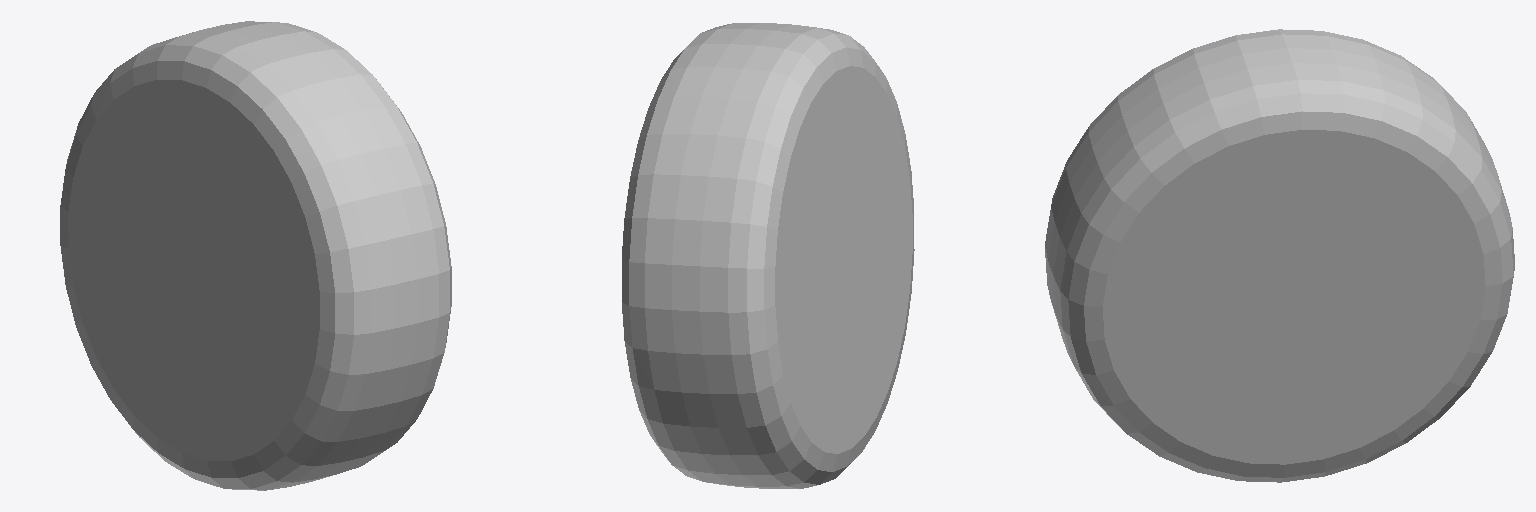
File: trackpad_scroll_wheel.obj
The picture shows the model from 3 angles: view 1: azimuth 30°, elevation 25°; view 2: azimuth 150°, elevation 25°; view 3: azimuth 270°, elevation 25°; orthographic projection.
Visible parts, largest first — view 1: r_trackpad_scroll_wheel; view 2: r_trackpad_scroll_wheel; view 3: r_trackpad_scroll_wheel.
Boxes of the visible parts, <box> form: r_trackpad_scroll_wheel: <box>60,21,451,490</box>; r_trackpad_scroll_wheel: <box>622,23,914,488</box>; r_trackpad_scroll_wheel: <box>1045,29,1514,482</box>.
Bounding box in the file's own units: 0.0116 × 0.0229 × 0.023.